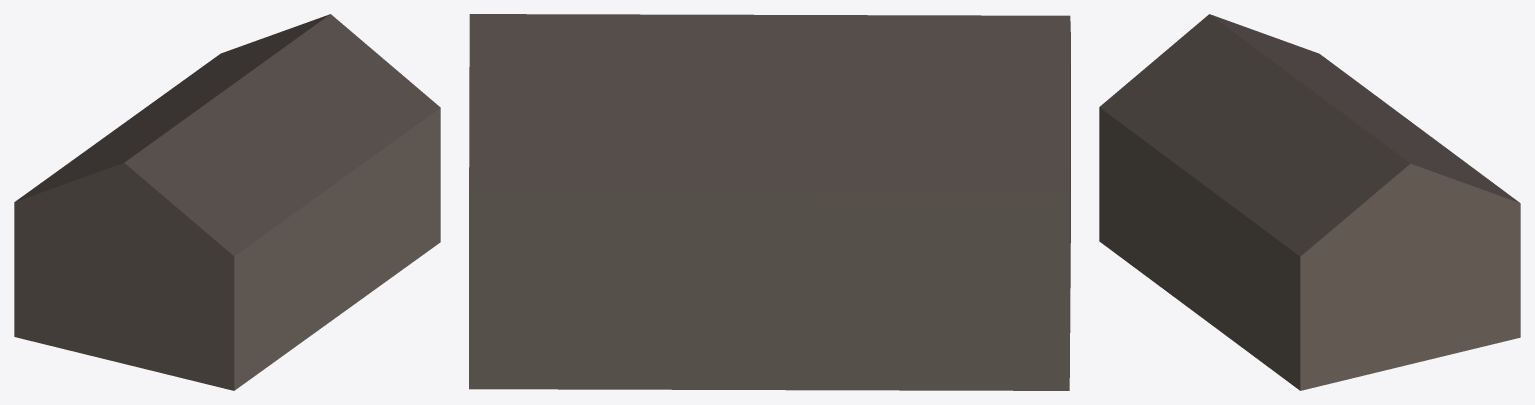
3 views of the same model, side by side, from view 1: azimuth 30°, elevation 25°; view 2: azimuth 150°, elevation 25°; view 3: azimuth 270°, elevation 25° (orthographic). The views are drawn at different scales.
Visible parts, largest first — view 1: HP-w369317549; view 2: HP-w369317549; view 3: HP-w369317549.
Boxes of the visible parts, x1,y1,x2,y2 form: HP-w369317549: (14,14,440,390); HP-w369317549: (469,14,1070,390); HP-w369317549: (1099,14,1520,390).
Size of the model in its own units: 29.18 by 13.45 by 25.6.
